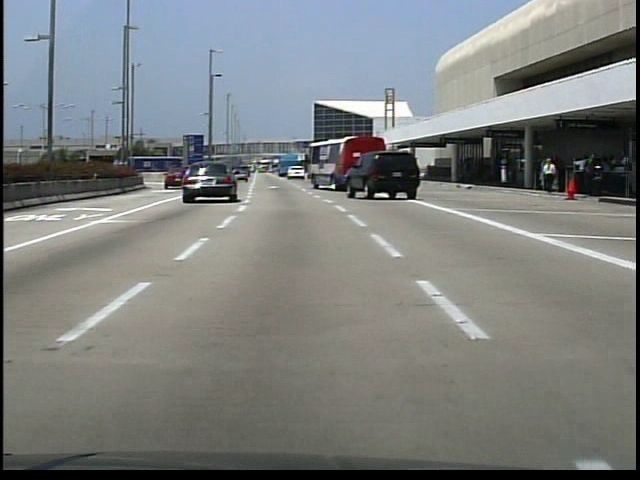person: (541, 157, 560, 197)
